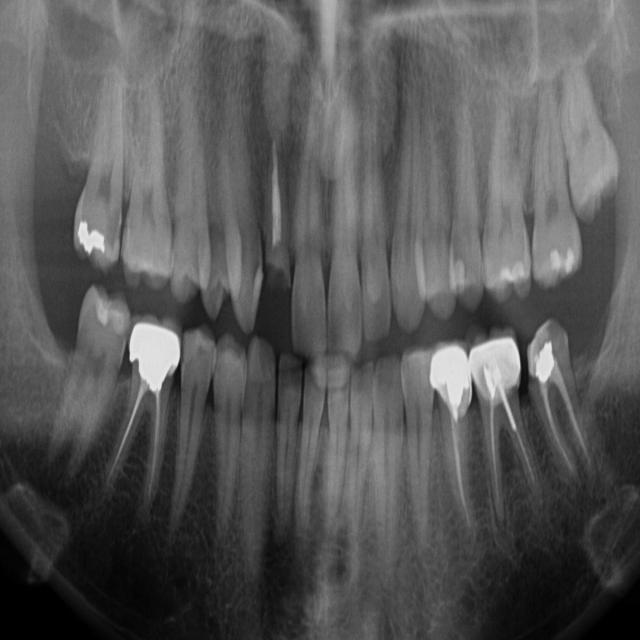dentin-curugu: (278, 346, 326, 405)
dolgu: (67, 212, 129, 267), (519, 339, 570, 387), (542, 242, 580, 274), (494, 262, 530, 288)
kanal-tedavisi: (102, 382, 172, 510), (536, 377, 602, 507), (479, 384, 534, 522), (443, 399, 481, 543), (262, 132, 299, 255)
kaplama: (122, 321, 184, 398), (472, 324, 525, 406), (419, 336, 474, 411)
kirik: (259, 250, 306, 310)
